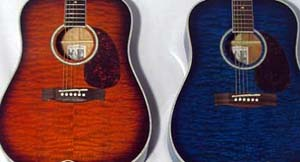guitar: (1, 2, 151, 161), (168, 1, 300, 161)
